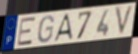4: (95, 8, 110, 38)
7: (77, 10, 94, 41)
A: (53, 13, 74, 43)
E: (16, 15, 37, 47)
G: (37, 15, 55, 44)
V: (114, 3, 135, 38)
